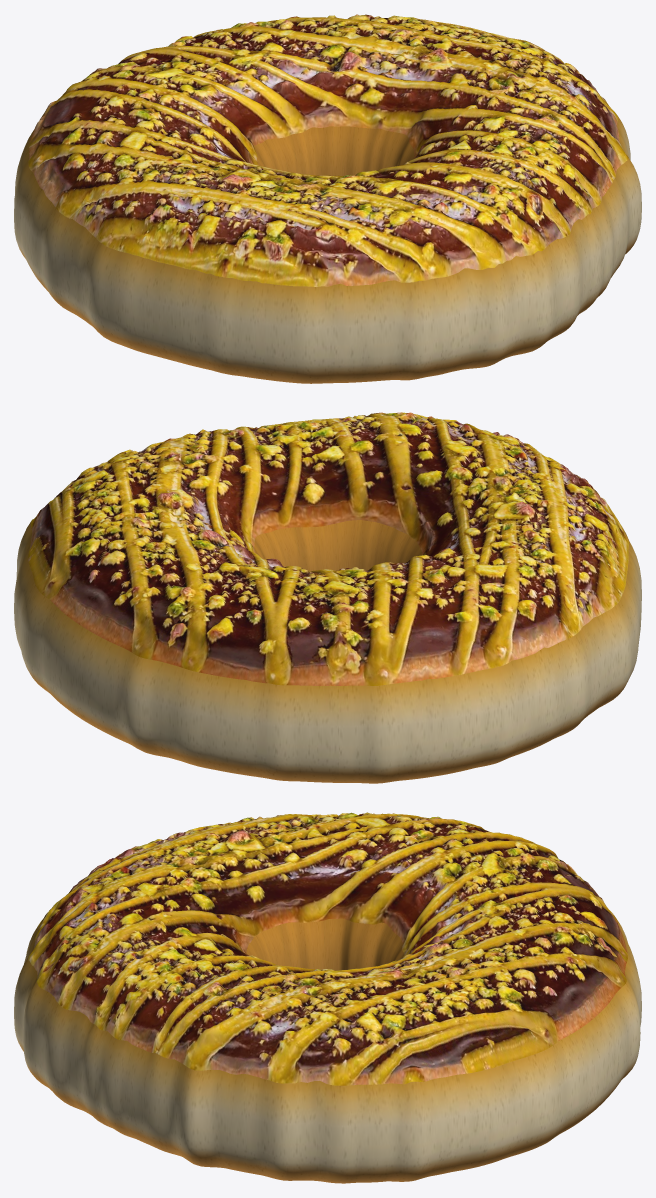
File: pistachio-donut.glb
3 views of the same model, one above another, from view 1: azimuth 30°, elevation 25°; view 2: azimuth 150°, elevation 25°; view 3: azimuth 270°, elevation 25° (orthographic).
Parts seen in each view (by area): view 1: PistachioDonut; view 2: PistachioDonut; view 3: PistachioDonut.
Boxes of the visible parts, x1,y1,x2,y2 form: PistachioDonut: [14, 14, 641, 383]; PistachioDonut: [14, 412, 641, 783]; PistachioDonut: [14, 812, 641, 1183].
Bounding box in the file's own units: 2.03 × 0.5991 × 2.01.
2 materials, 2 textured.
